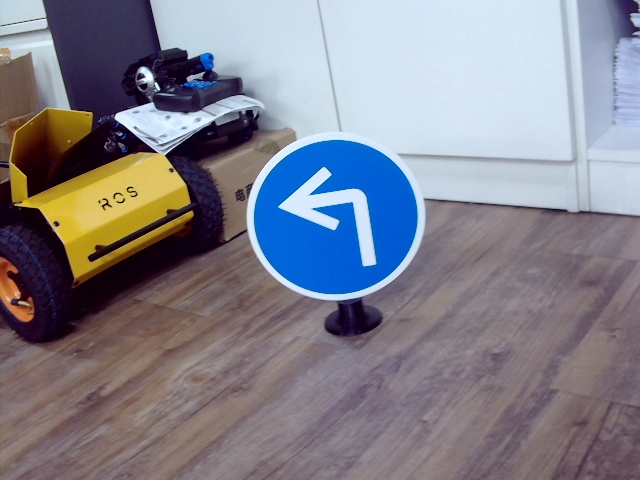turn_left: (280, 164, 389, 269)
